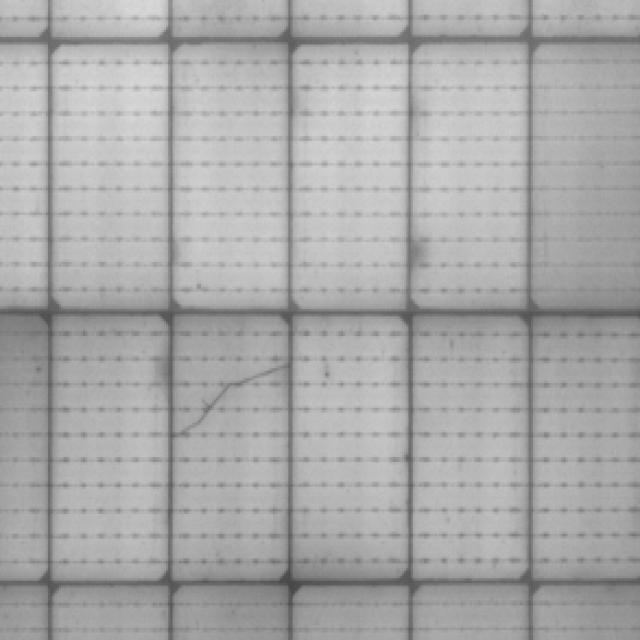CRACK: (193, 345, 294, 430)
